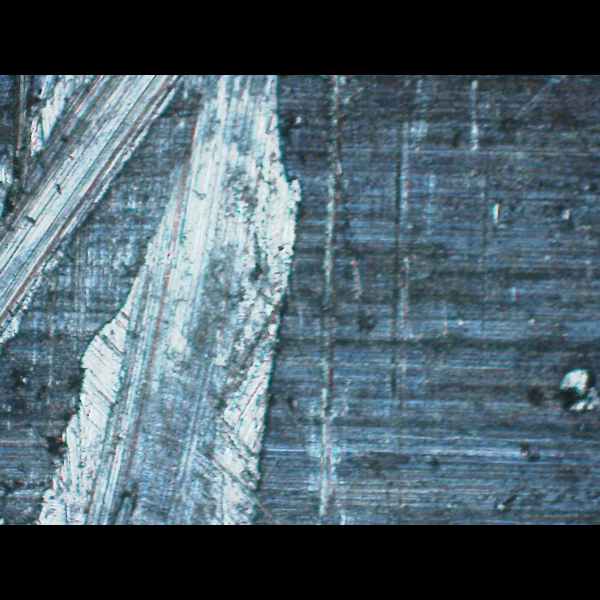d: (0, 77, 315, 524), (529, 358, 599, 421)
